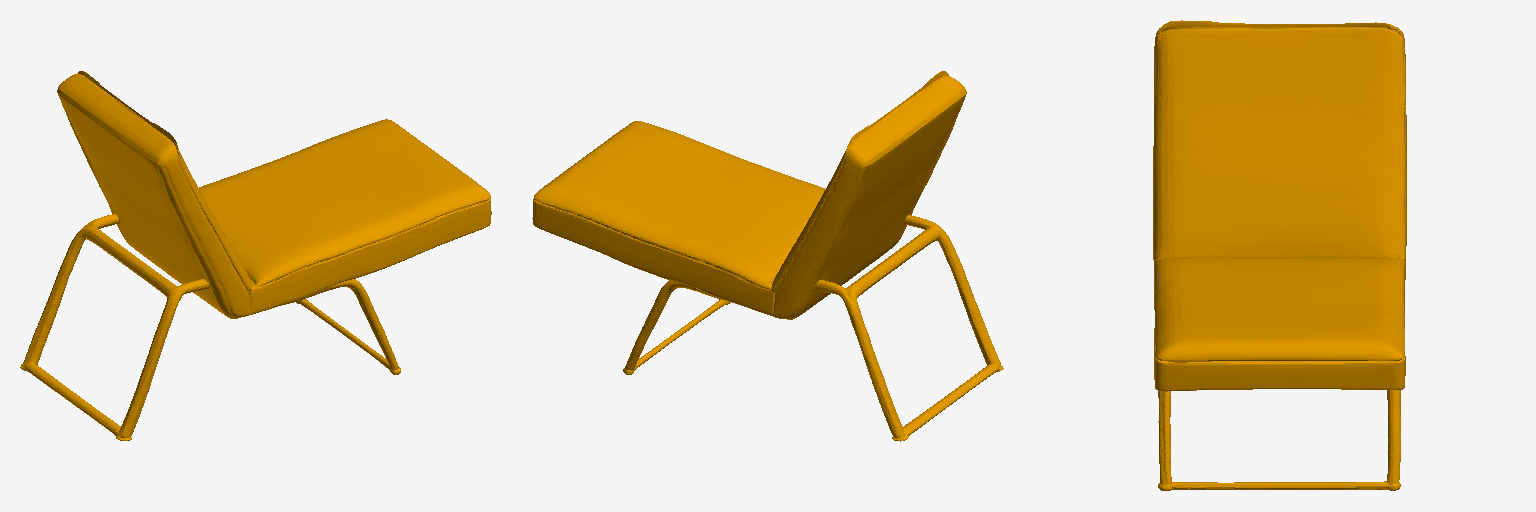
URDF robot description (lounge_chair_24):
<?xml version="1.0" ?>
<robot name="lounge_chair_24">
   <link name="lounge_chair_24">
      <visual>
         <origin xyz="0 0 0" rpy="1.5708 0.0 0.0"/>
         <geometry>
            <mesh filename="mesh/lounge_chair_24.obj" scale="1.0 1.0 1.0"/>
         </geometry>
      </visual>
      <collision>
         <origin xyz="0 0 0" rpy="1.5708 0.0 0.0"/>
         <geometry>
            <mesh filename="mesh/lounge_chair_24_collision.obj" scale="1.0 1.0 1.0"/>
         </geometry>
         <gazebo>
            <mu1>0.80</mu1>
            <mu2>0.60</mu2>
         </gazebo>
      </collision>
      <inertial>
         <mass value="10.0000"/>
         <origin xyz="0 0 0"/>
         <inertia ixx="1.0" ixy="0.0" ixz="0.0" iyy="1.0" iyz="0.0" izz="1.0"/>
      </inertial>
      <extra_info>
         <scale>1.080103</scale>
         <version>v0.1.5</version>
         <category>lounge_chair</category>
         <description>modern yellow lounge chair with metal legs and angled backrest</description>
         <min_height>0.75</min_height>
         <max_height>0.85</max_height>
         <real_height>0.8</real_height>
         <min_mass>8.0</min_mass>
         <max_mass>12.0</max_mass>
         <generate_time>20251021120449</generate_time>
         <gs_model>mesh/lounge_chair_24_gs.ply</gs_model>
      </extra_info>
   </link>
   <custom_data>
      <quality>
         <MeshGeoChecker>YES</MeshGeoChecker>
         <ImageSegChecker>YES</ImageSegChecker>
         <ImageAestheticChecker>4.68688440322876</ImageAestheticChecker>
         <overall>YES</overall>
      </quality>
   </custom_data>
</robot>

--- What the picture shows (computed from the rendered views, not written in the file) ---
3 views of the same robot in one strip: view 1: azimuth 30°, elevation 25°; view 2: azimuth 150°, elevation 25°; view 3: azimuth 270°, elevation 25° (orthographic).
Robot: lounge_chair_24 — 1 links, 0 joints (none); root link lounge_chair_24; default pose: every joint at zero.
Links seen in each view (by area): view 1: lounge_chair_24; view 2: lounge_chair_24; view 3: lounge_chair_24.
Boxes of the visible links, <box> form: lounge_chair_24: <box>20,71,491,440</box>; lounge_chair_24: <box>532,71,1003,441</box>; lounge_chair_24: <box>1153,20,1406,490</box>.
Size in the robot's own frame: 1.08 by 0.5374 by 0.8 metres.
Meshes: 1 distinct files referenced, 1 mesh visuals loaded (1 OBJ).
